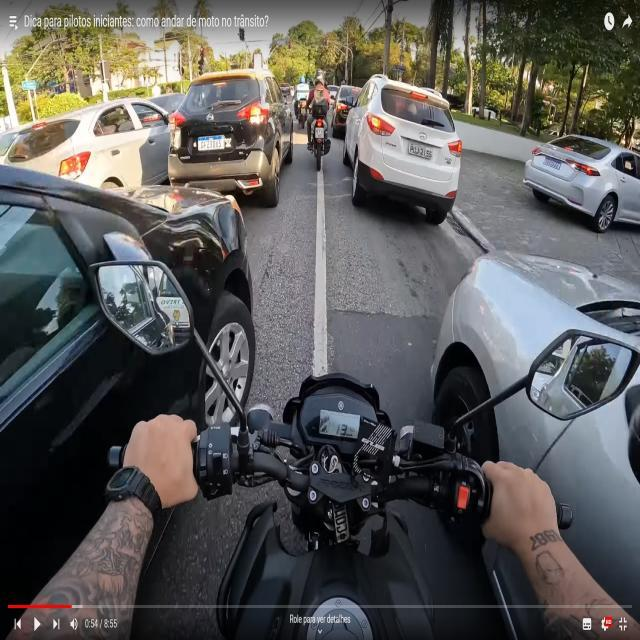placa_moto: (314, 125, 325, 141)
